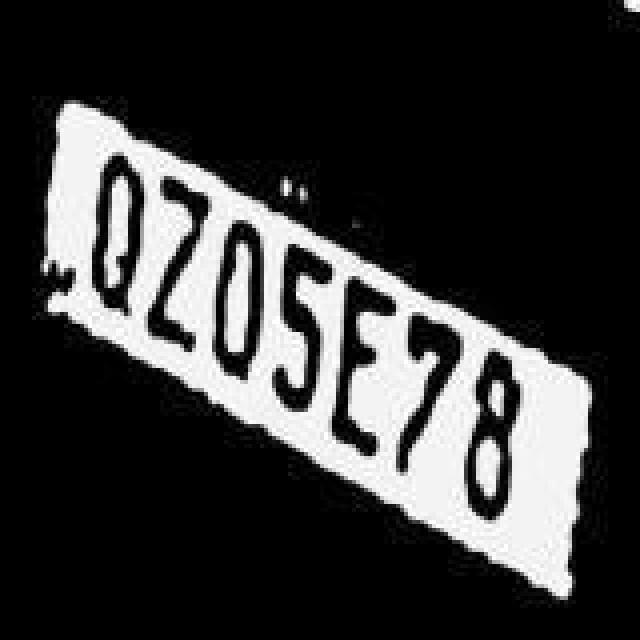5: (270, 244, 338, 428)
7: (390, 318, 466, 498)
8: (470, 354, 530, 542)
E: (330, 278, 390, 458)
O: (220, 222, 276, 402)
Q: (86, 146, 138, 326)
Z: (150, 176, 210, 360)
